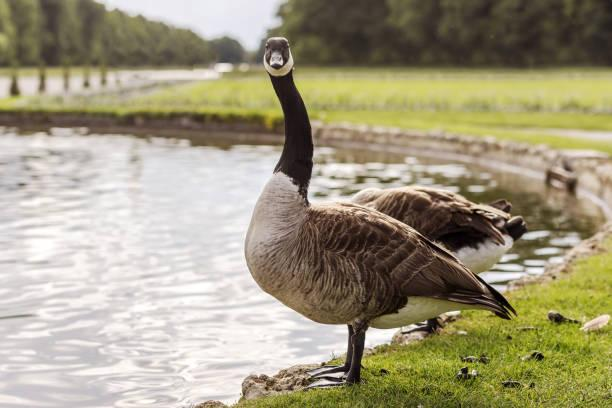Canadian-Goose: (242, 34, 508, 387), (353, 185, 521, 277)
